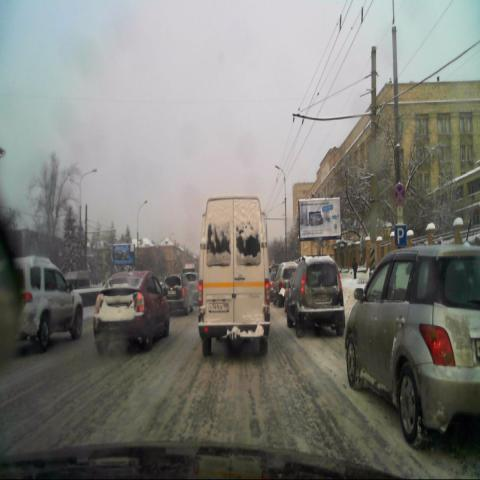3_27: (393, 180, 406, 205)
6_4: (395, 224, 406, 244)
